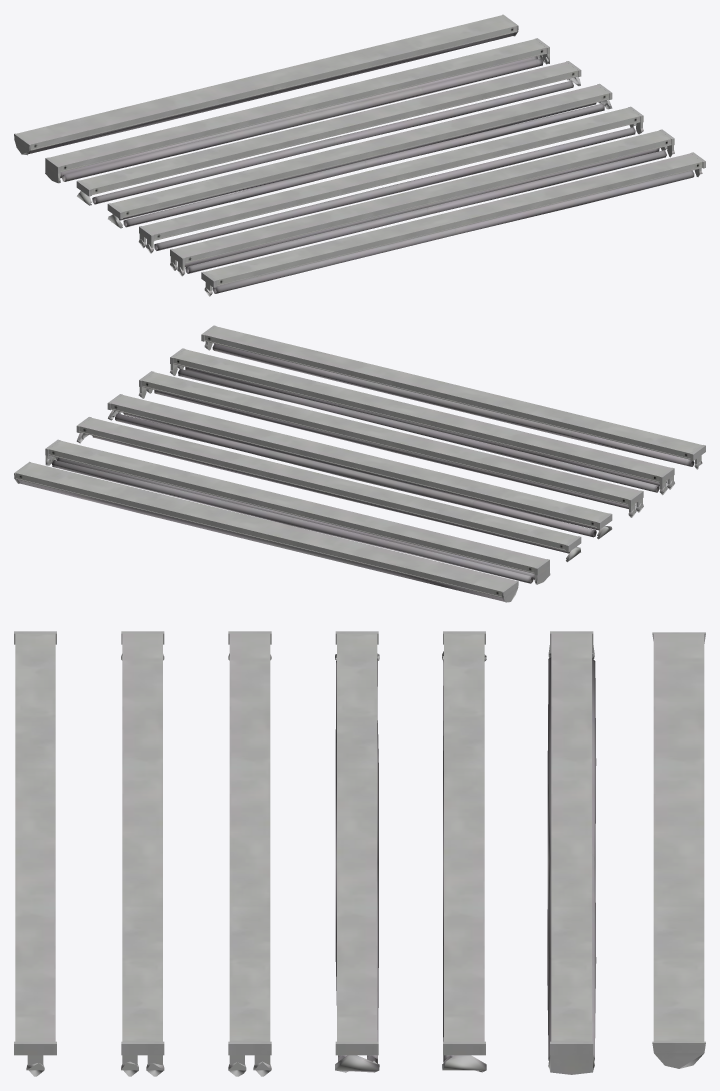
File: mounted_fluorescent_lights.glb
The picture shows the model from 3 angles, top to bottom: view 1: azimuth 30°, elevation 25°; view 2: azimuth 150°, elevation 25°; view 3: azimuth 270°, elevation 25°; orthographic projection. The views are drawn at different scales.
Visible parts, largest first — view 1: mounted_fluorescent_lights_a; view 2: mounted_fluorescent_lights_a; view 3: mounted_fluorescent_lights_a.
Part boxes in pixels (x1,y1,x2,y2): mounted_fluorescent_lights_a: [14, 14, 705, 296]; mounted_fluorescent_lights_a: [14, 325, 705, 602]; mounted_fluorescent_lights_a: [14, 631, 705, 1076].
Bounding box in the file's own units: 0.9122 × 0.0351 × 0.6453.
Materials: 2 (2 with a texture image).
